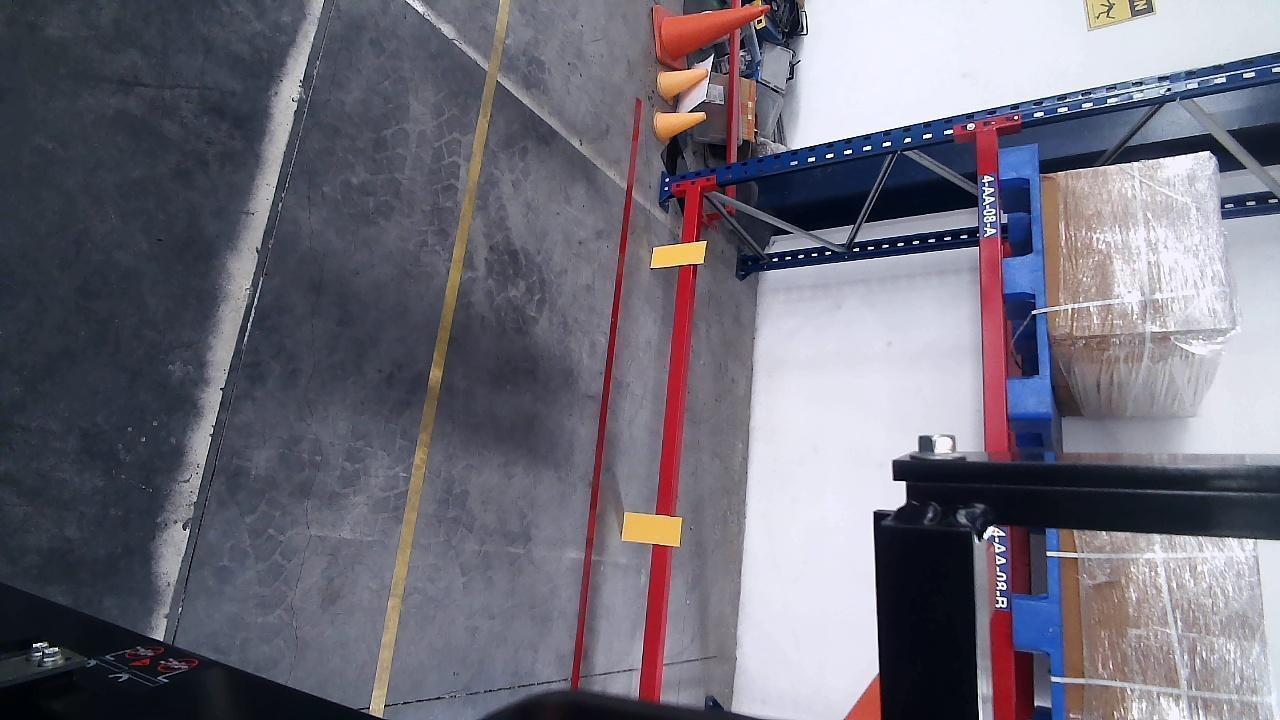red_line: (569, 103, 648, 686)
yellow_line: (370, 0, 507, 714)
